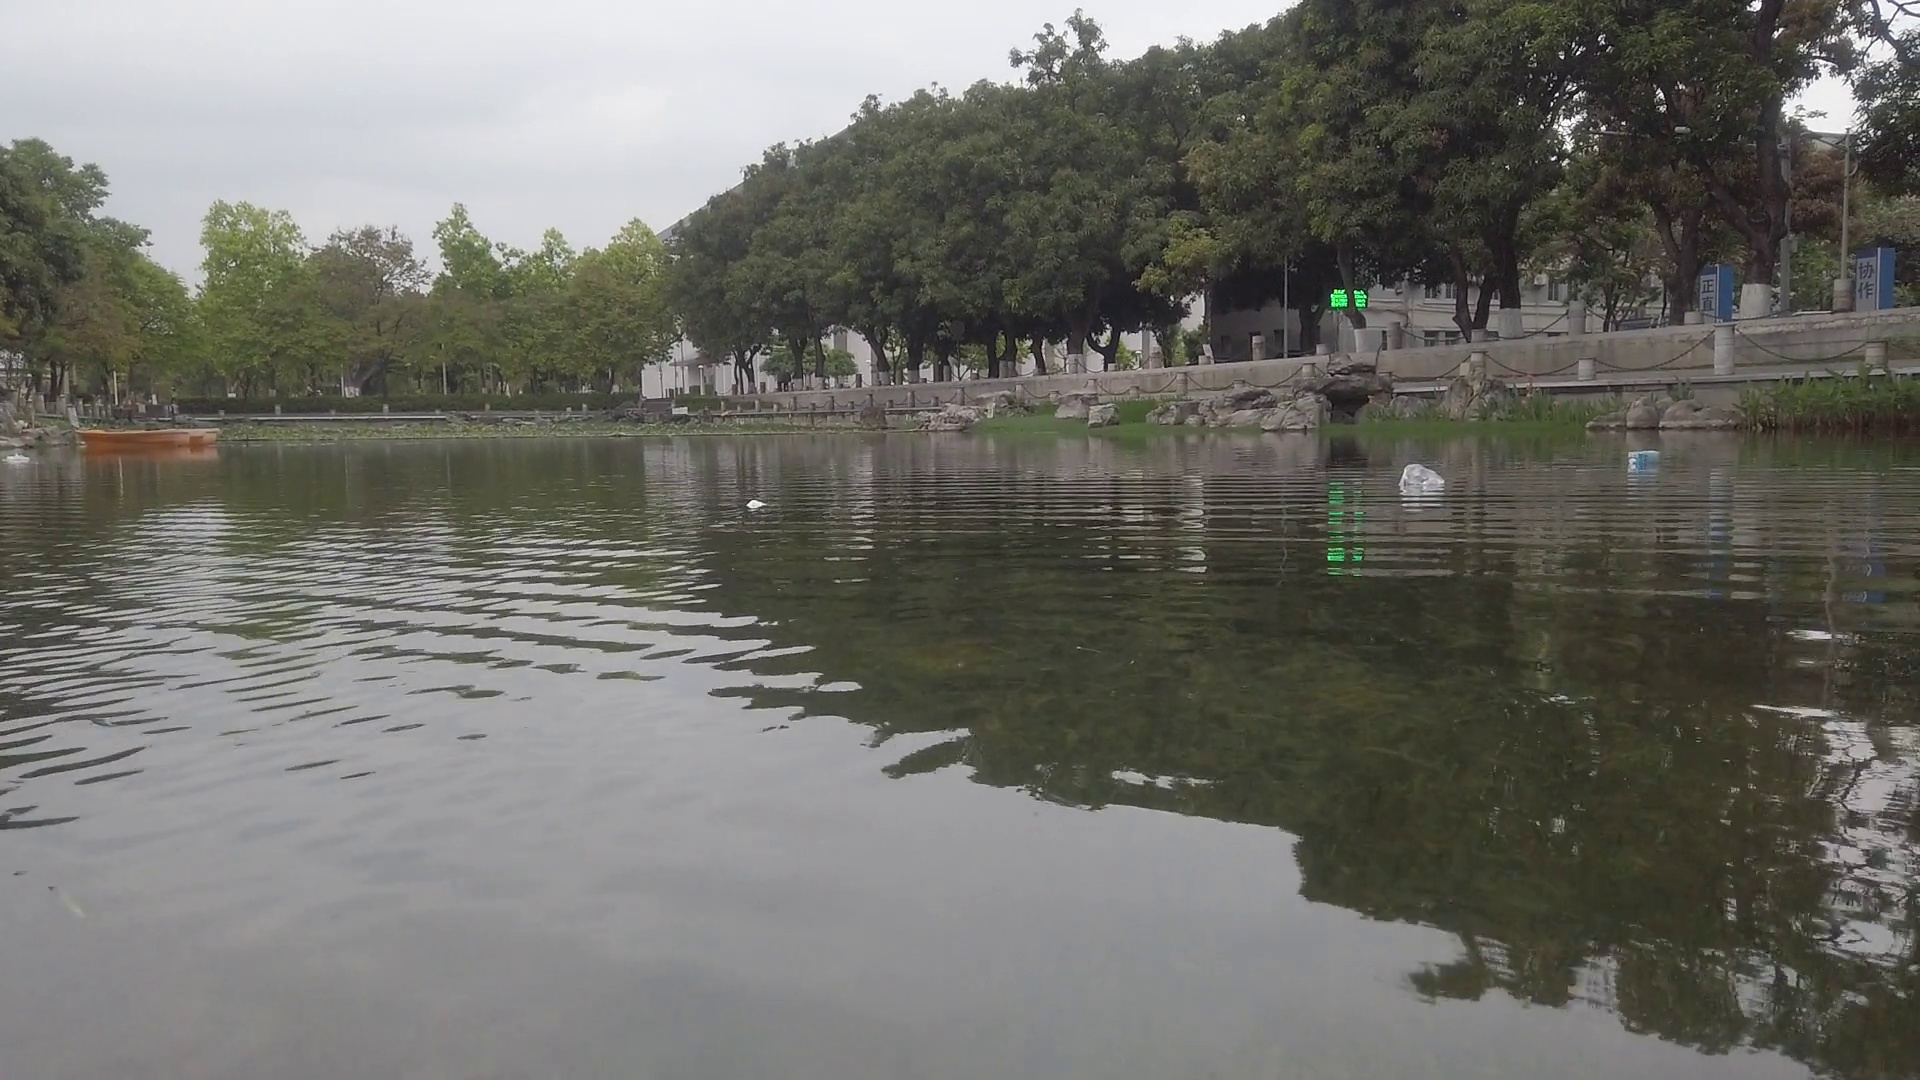carton: (1630, 450, 1663, 467)
paper: (744, 495, 769, 508)
plastic: (1395, 464, 1452, 491), (4, 451, 29, 463)
